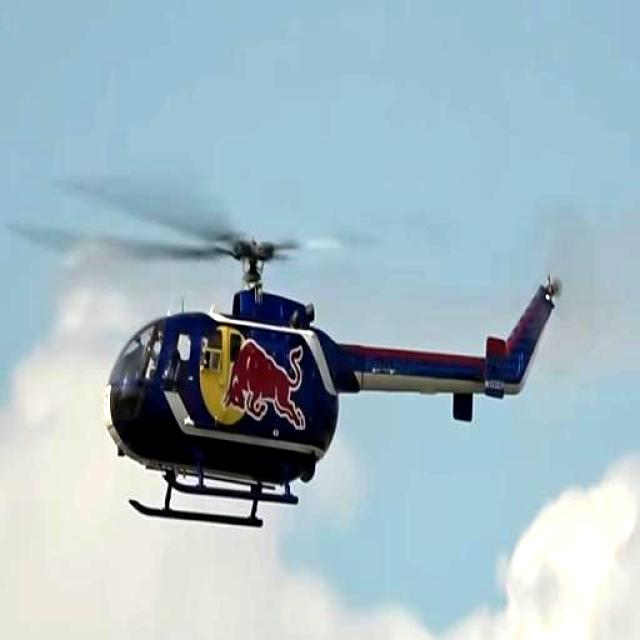drone: (10, 134, 561, 549)
